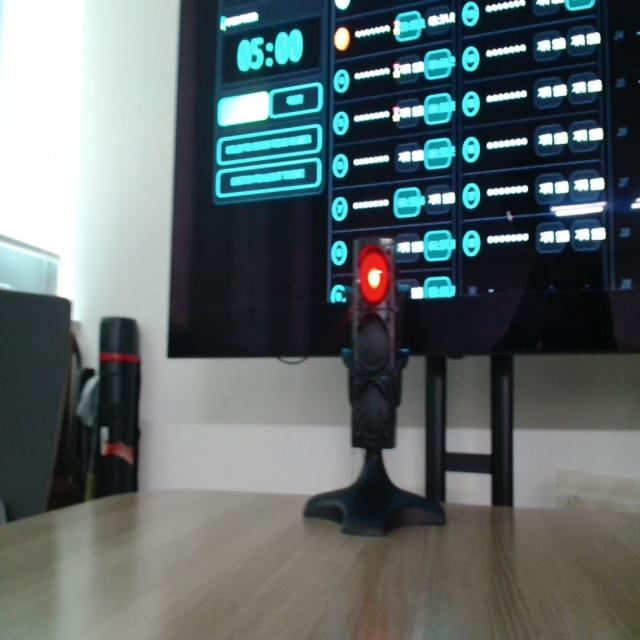red_light: (359, 246, 389, 305)
